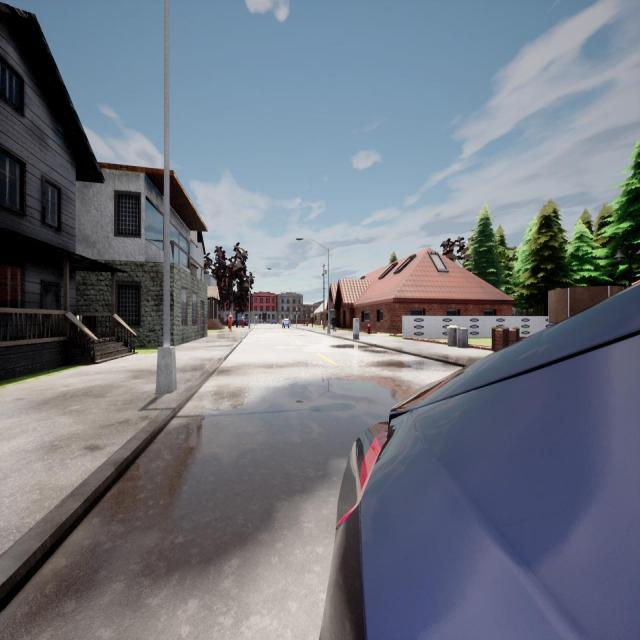Pedestrian: (228, 312, 232, 332), (332, 312, 336, 330), (241, 314, 245, 328), (311, 314, 314, 328)
Vehicle: (324, 291, 639, 638), (282, 319, 290, 328), (271, 318, 277, 325)
traffic_light: (296, 310, 298, 314)
